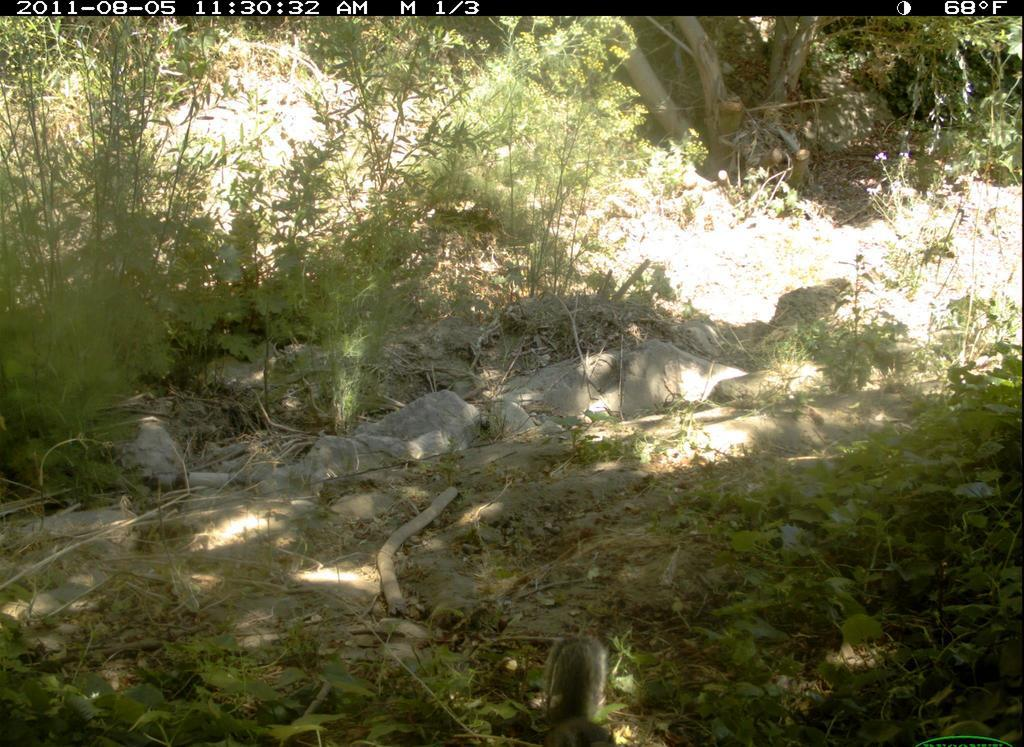squirrel: (524, 620, 642, 747)
